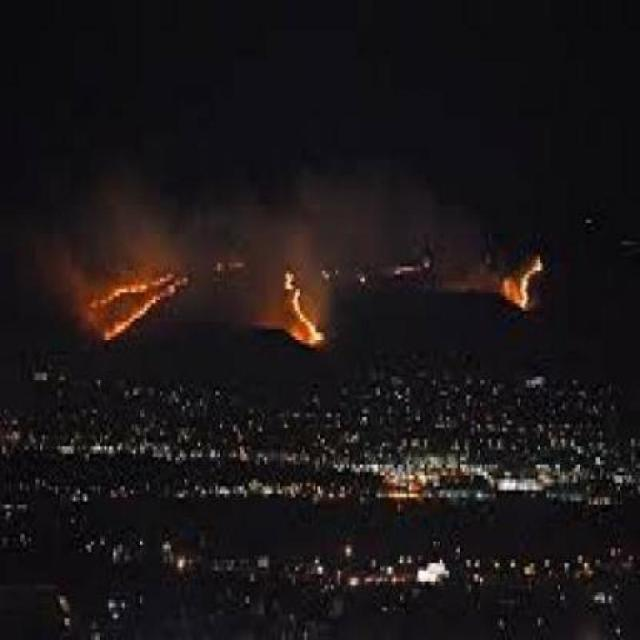Fire: (75, 261, 202, 356), (277, 258, 328, 357), (504, 258, 550, 314)
